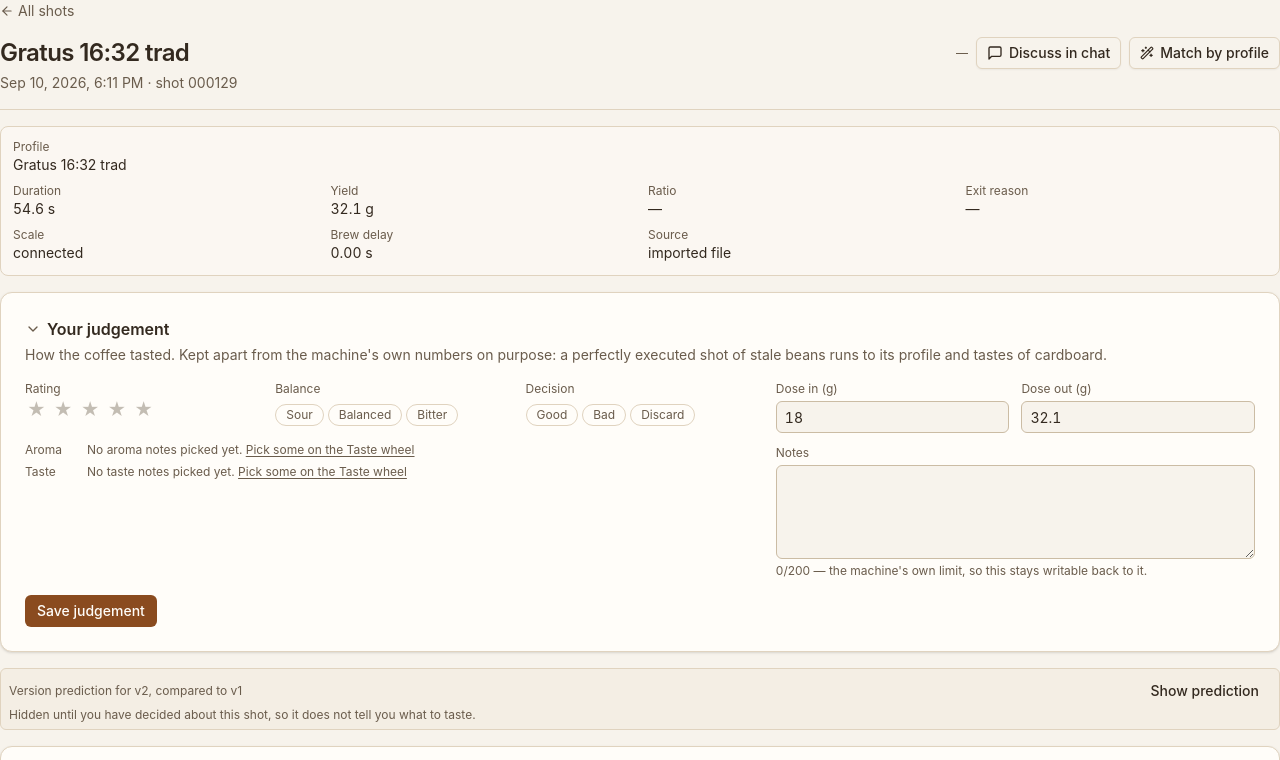
Test case: ShotDetailPage version prediction › keeps the prediction out of the page until the shot has been decided about
The width and height of the screenshot is (1280, 760).
Expected: the element with test id "version-prediction-row" is shown, [0, 668, 1279, 730]
Expected: the text "less bitter, a shorter shot" is not shown
Click the button "Show prediction": coordinates (1205, 691) [1138, 675, 1271, 707]
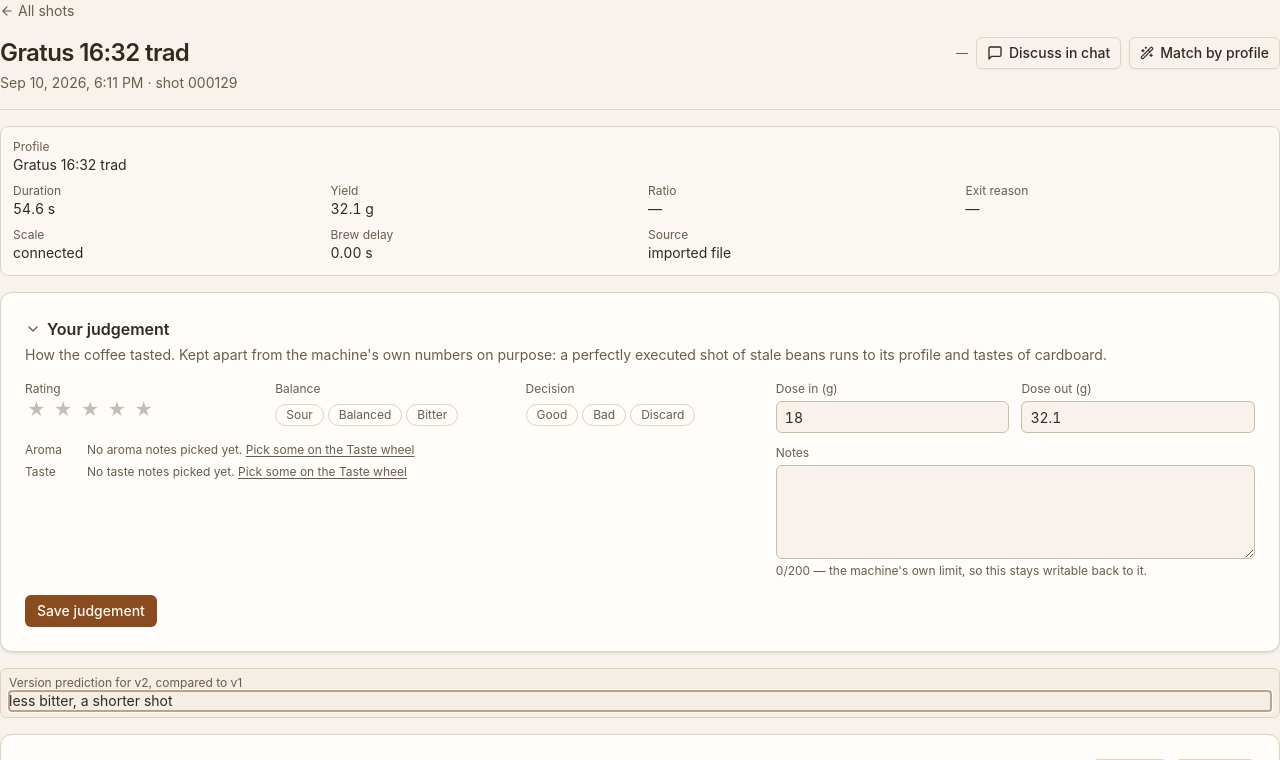
Result: the text "less bitter, a shorter shot" is shown at [9, 692, 173, 709]
